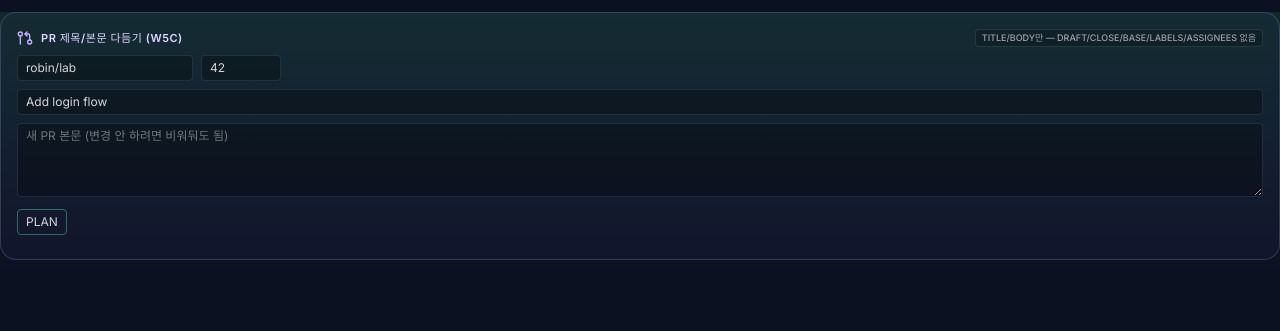
PullRequestUpdateCard — W5c › (#1) 기본: title 편집 → Plan → 응답 plan summary 표시 + approval 카드 노출
The image size is (1280, 331).
Note: 새 title 입력
Replace the text in the field named "pr-update new title" with "Add login flow (cleaned up)" at {"x": 640, "y": 102}, box [17,89,1263,115]
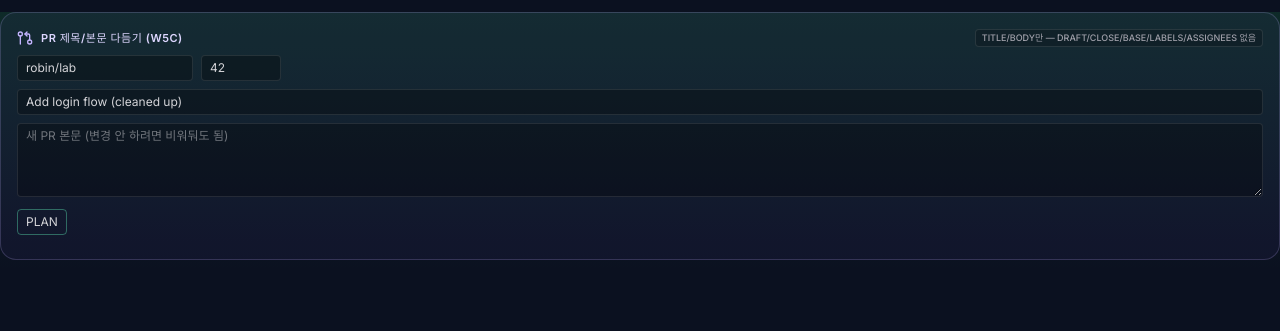
Click the button with test id "publish-pr-update-plan" at {"x": 42, "y": 222}, box [17,209,67,235]
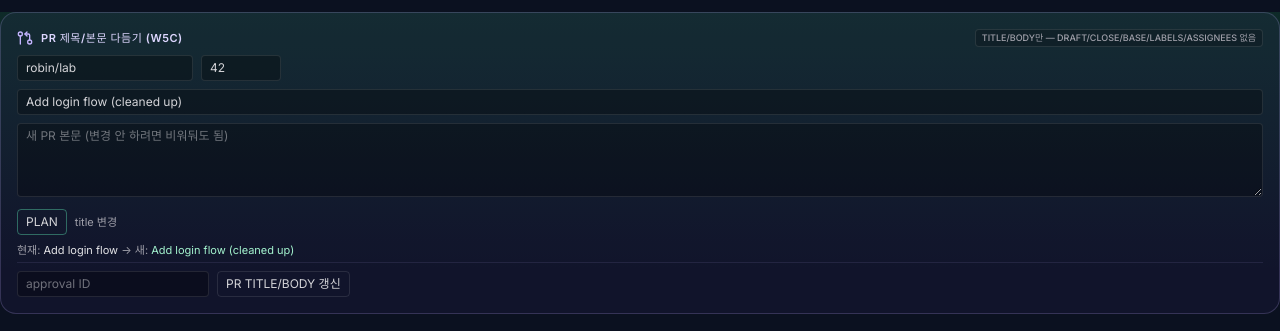
Expected: the text with test id "publish-pr-update-plan-summary" reads "title 변경", [75,215,117,229]
Expected: the element with test id "publish-pr-update-title-diff" shows "Add login flow (cleaned up)", [151,243,294,257]
Expected: the button with test id "publish-pr-update-execute" is shown, [217,271,350,297]
